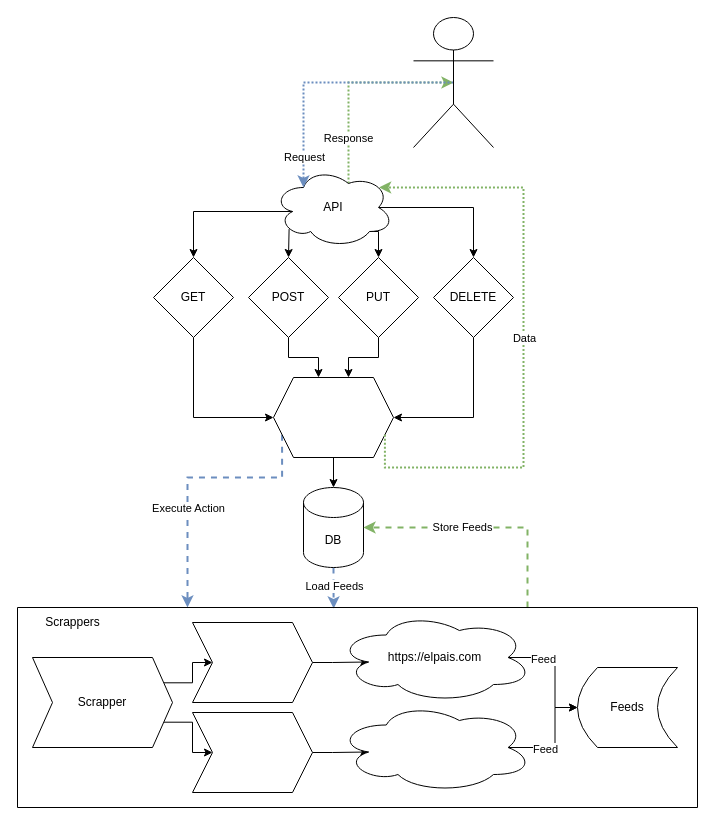
This 715x825 diagram has some shape labels left out. The shapes that lost their labels are listed below. From the top down, each one's centre as x and y in pixels, then its label:
[453,82]: USER
[333,417]: SERVICES
[252,662]: Scrapper El País
[252,752]: Scrapper El Mundo
[434,747]: https://www.elmundo.es
